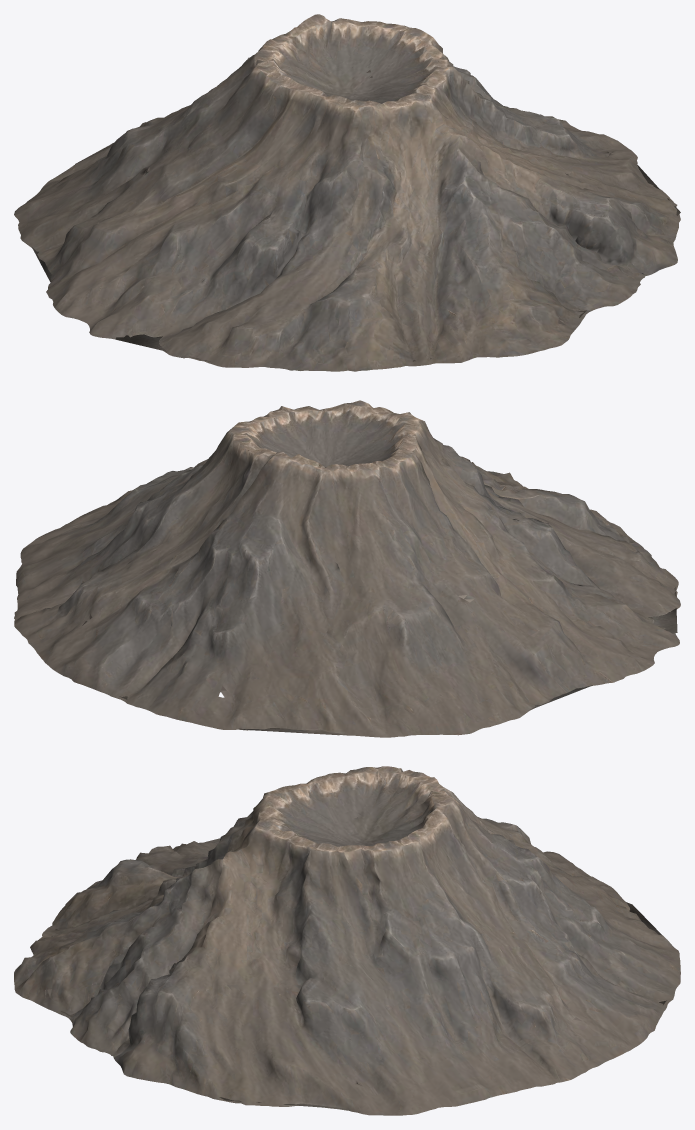
The model's file is volcano-exterior.glb.
The picture shows the model from 3 angles, top to bottom: view 1: azimuth 30°, elevation 25°; view 2: azimuth 150°, elevation 25°; view 3: azimuth 270°, elevation 25°; orthographic projection.
Size of the model in its own units: 0.9536 by 0.2739 by 0.9214.
1 material, 1 textured.
